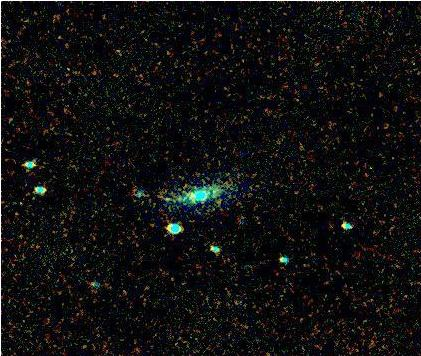star: (154, 182, 184, 212)
